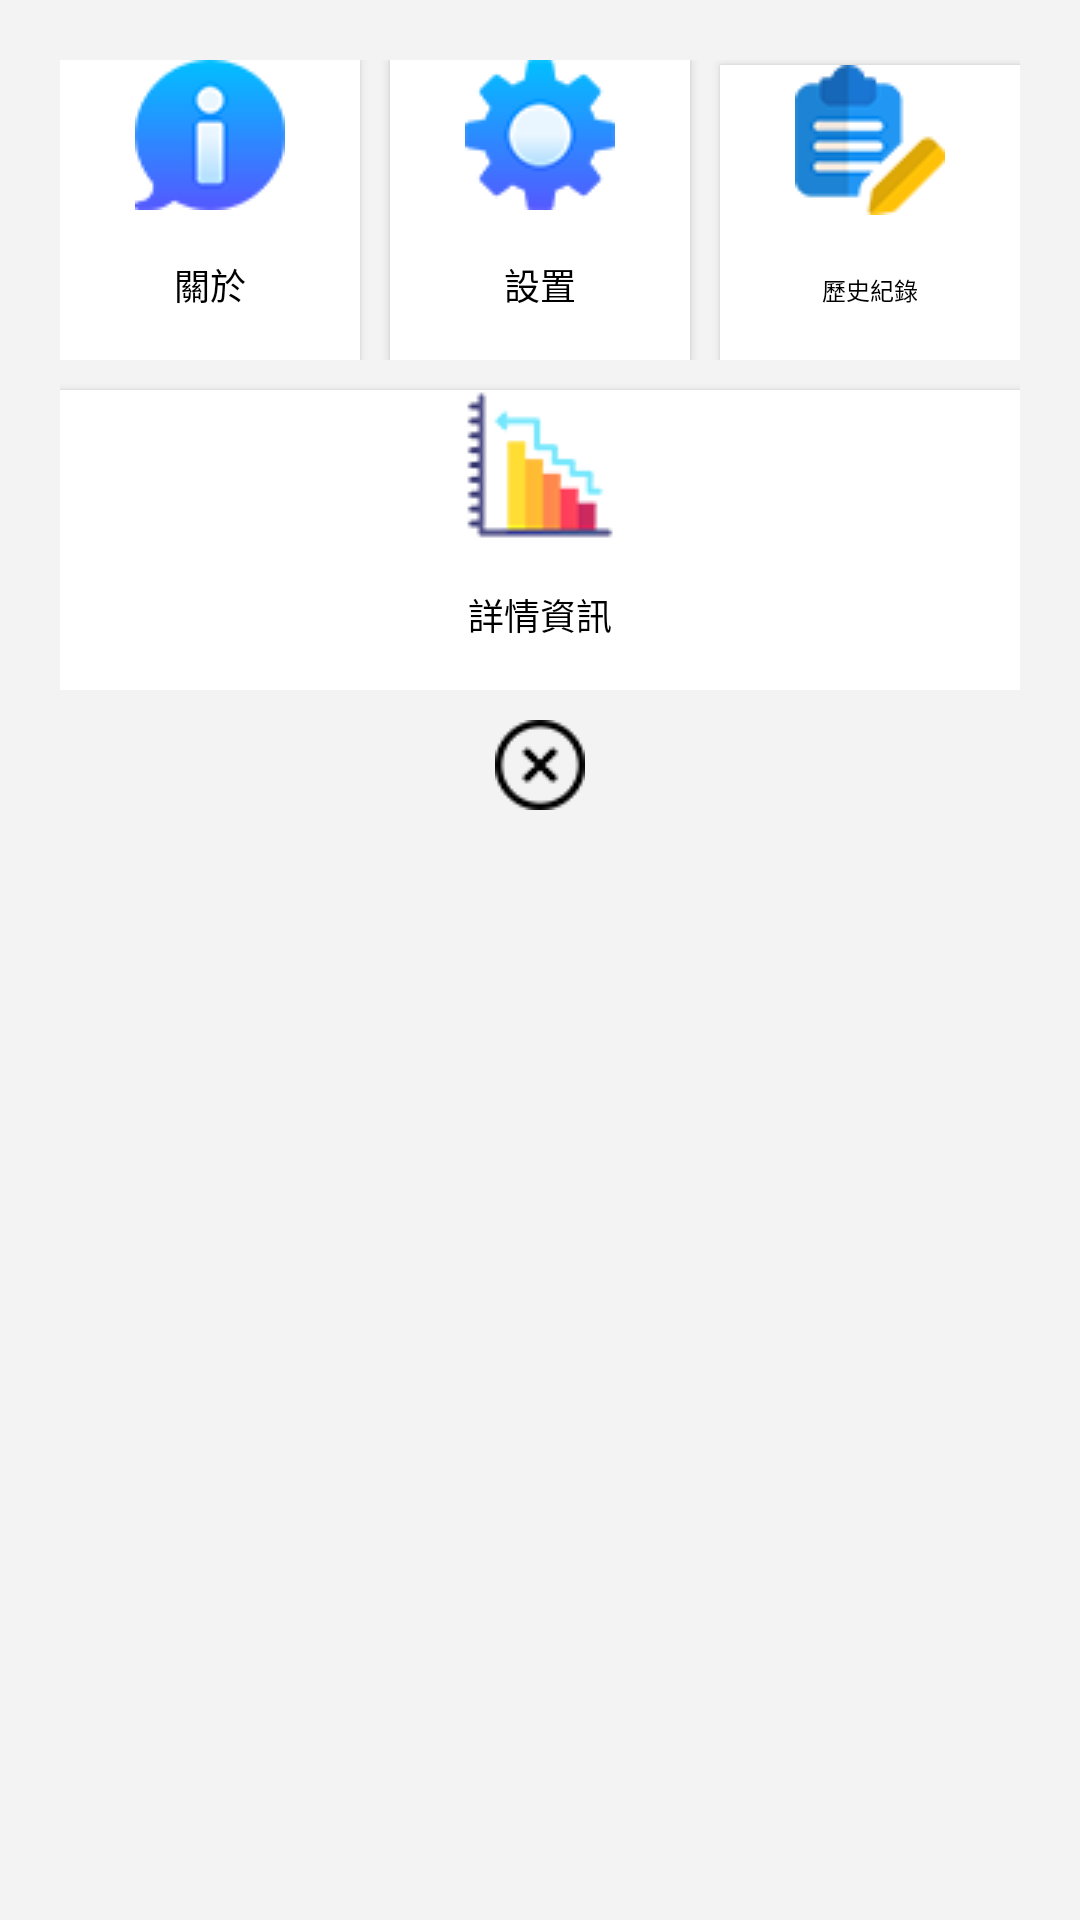

Icon bounding boxes for this 1080 × 1920 phone screenshot, format (x1, y1, x2, y2):
ih error: (495, 720, 585, 810)
